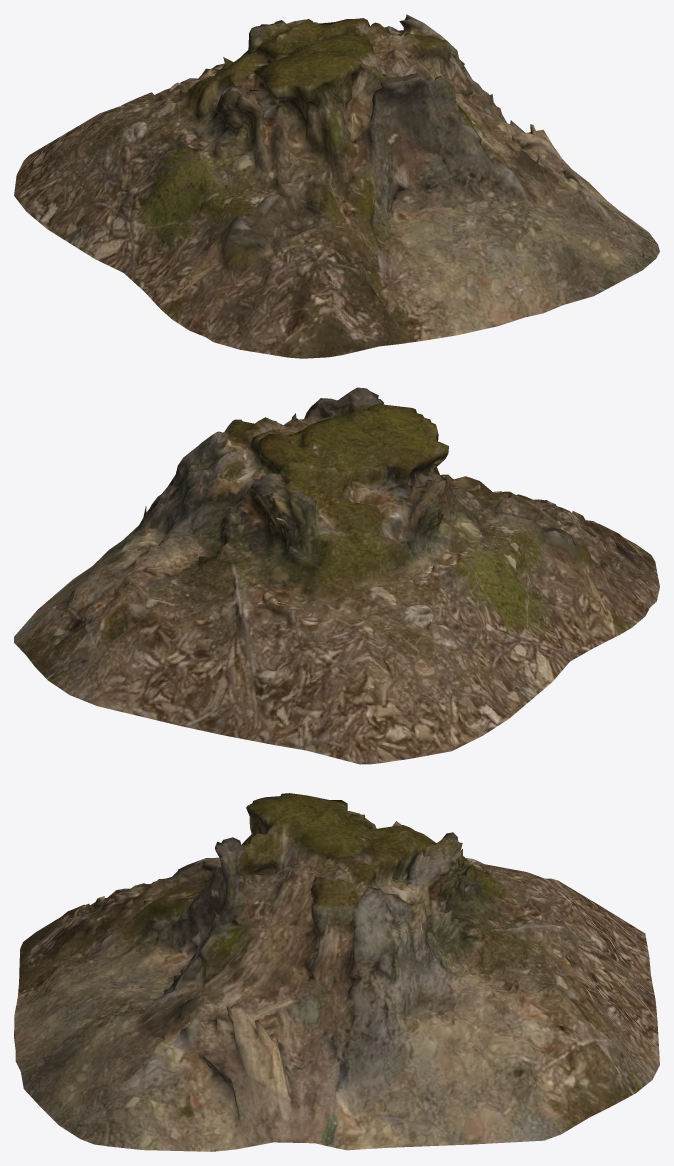
File: tree_stump_01.glb
The picture shows the model from 3 angles, top to bottom: view 1: azimuth 30°, elevation 25°; view 2: azimuth 150°, elevation 25°; view 3: azimuth 270°, elevation 25°; orthographic projection. The views are drawn at different scales.
Visible parts, largest first — view 1: tree_stump_01; view 2: tree_stump_01; view 3: tree_stump_01.
Boxes of the visible parts, x1,y1,x2,y2 form: tree_stump_01: [14, 14, 659, 358]; tree_stump_01: [14, 387, 659, 764]; tree_stump_01: [14, 793, 659, 1151].
Size of the model in its own units: 1.43 by 0.571 by 1.59.
Materials: 1 (1 with a texture image).
